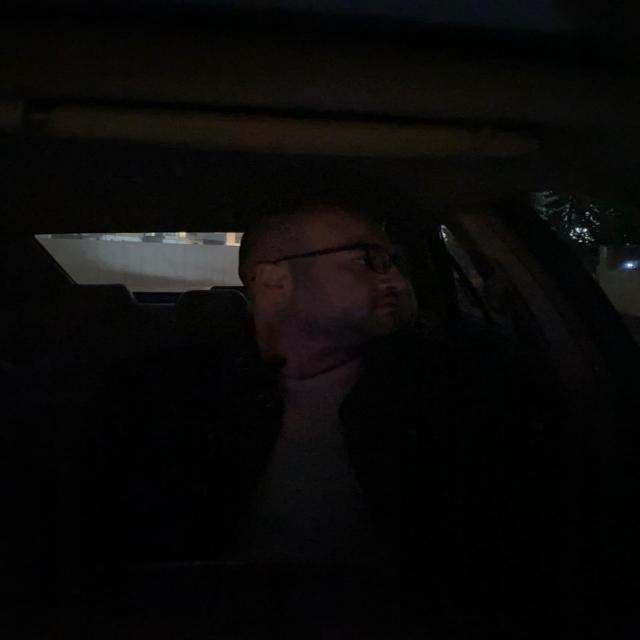LeftRight: (231, 205, 422, 354)
